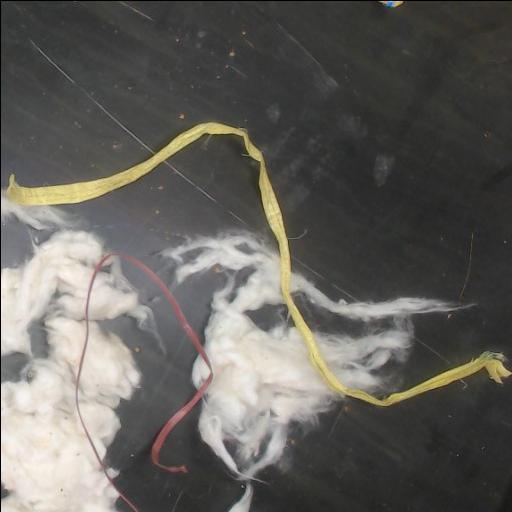conveyor belt: (1, 1, 512, 388), (58, 135, 270, 341), (251, 373, 512, 512), (101, 261, 245, 512), (294, 293, 389, 334), (1, 216, 50, 266)
cotton: (1, 193, 148, 512), (166, 235, 340, 478), (290, 275, 448, 391)
thread: (7, 121, 511, 405), (75, 253, 212, 512)
